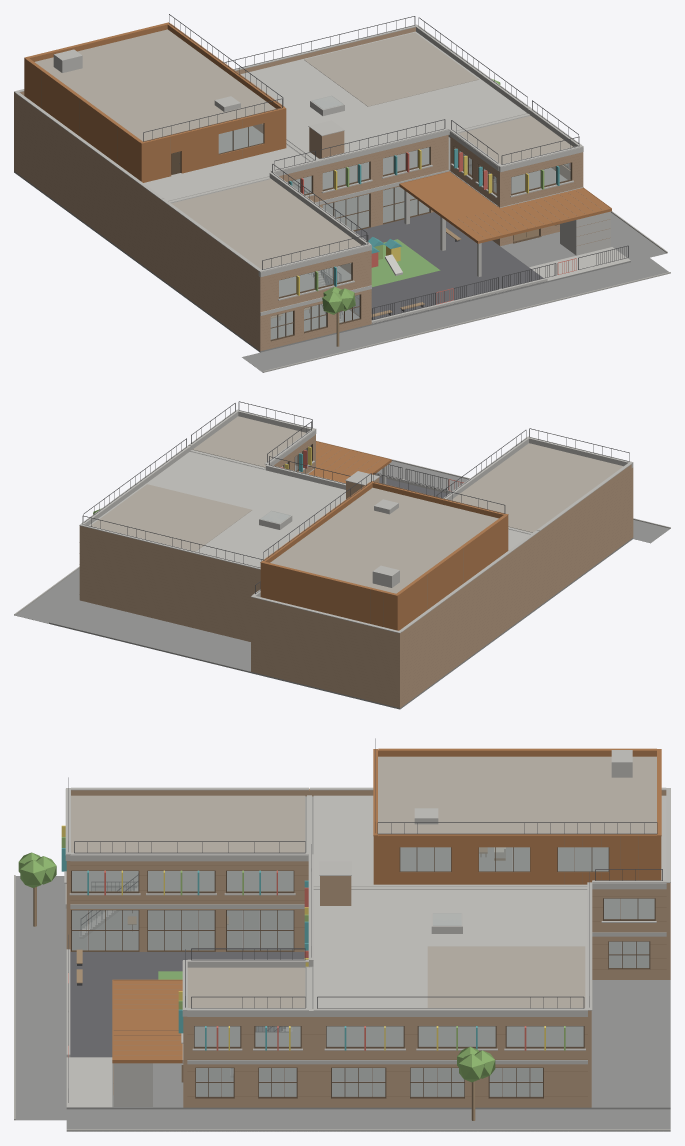
File: clay-courtyard-primary-school-clay-v006.glb
3 renders of one model, top to bottom at view 1: azimuth 30°, elevation 25°; view 2: azimuth 150°, elevation 25°; view 3: azimuth 270°, elevation 25°, orthographic. The views are drawn at different scales.
Parts seen in each view (by area): view 1: CLAY_WALL, CLAY_ROOF, CLAY_CORTEN, CLAY_MEMBRANE, CLAY_FOUNDATION, CLAY_PALE, CLAY_COURT, CLAY_GLASS, CLAY_HARDWARE, CLAY_FLOOR, CLAY_TRIM, CLAY_PLAY (+7 smaller); view 2: CLAY_WALL, CLAY_ROOF, CLAY_CORTEN, CLAY_MEMBRANE, CLAY_FOUNDATION, CLAY_PALE, CLAY_HARDWARE, CLAY_STONE; view 3: CLAY_FOUNDATION, CLAY_ROOF, CLAY_WALL, CLAY_GLASS, CLAY_MEMBRANE, CLAY_PALE, CLAY_CORTEN, CLAY_FLOOR, CLAY_TRIM, CLAY_COURT, CLAY_HARDWARE, CLAY_JOINT (+4 smaller).
Part boxes in pixels (x1=…): CLAY_WALL: x1=14, y1=27, x2=583, y2=351; CLAY_ROOF: x1=35, y1=29, x2=572, y2=269; CLAY_CORTEN: x1=24, y1=22, x2=611, y2=243; CLAY_MEMBRANE: x1=143, y1=31, x2=630, y2=280; CLAY_FOUNDATION: x1=14, y1=165, x2=668, y2=372; CLAY_PALE: x1=14, y1=24, x2=610, y2=323; CLAY_COURT: x1=322, y1=212, x2=543, y2=323; CLAY_GLASS: x1=218, y1=95, x2=570, y2=339; CLAY_HARDWARE: x1=143, y1=14, x2=628, y2=321; CLAY_FLOOR: x1=171, y1=115, x2=567, y2=296; CLAY_TRIM: x1=171, y1=123, x2=572, y2=341; CLAY_PLAY: x1=371, y1=239, x2=440, y2=287; CLAY_WALL: x1=79, y1=434, x2=633, y2=707; CLAY_ROOF: x1=90, y1=416, x2=623, y2=593; CLAY_CORTEN: x1=260, y1=441, x2=508, y2=630; CLAY_MEMBRANE: x1=89, y1=452, x2=529, y2=567; CLAY_FOUNDATION: x1=14, y1=461, x2=670, y2=709; CLAY_PALE: x1=79, y1=409, x2=633, y2=633; CLAY_HARDWARE: x1=82, y1=401, x2=629, y2=593; CLAY_STONE: x1=14, y1=441, x2=670, y2=615; CLAY_FOUNDATION: x1=15, y1=876, x2=670, y2=1131; CLAY_ROOF: x1=71, y1=756, x2=656, y2=1007; CLAY_WALL: x1=66, y1=788, x2=670, y2=1107; CLAY_GLASS: x1=72, y1=847, x2=654, y2=1096; CLAY_MEMBRANE: x1=66, y1=795, x2=666, y2=1107; CLAY_PALE: x1=64, y1=750, x2=670, y2=1106; CLAY_CORTEN: x1=112, y1=748, x2=661, y2=1063; CLAY_FLOOR: x1=72, y1=796, x2=654, y2=1046; CLAY_TRIM: x1=71, y1=847, x2=655, y2=1098; CLAY_COURT: x1=70, y1=952, x2=304, y2=1057; CLAY_HARDWARE: x1=68, y1=738, x2=662, y2=1102; CLAY_JOINT: x1=70, y1=836, x2=666, y2=1096.
Bounding box in the file's own units: 46 × 12.98 × 50.03.
